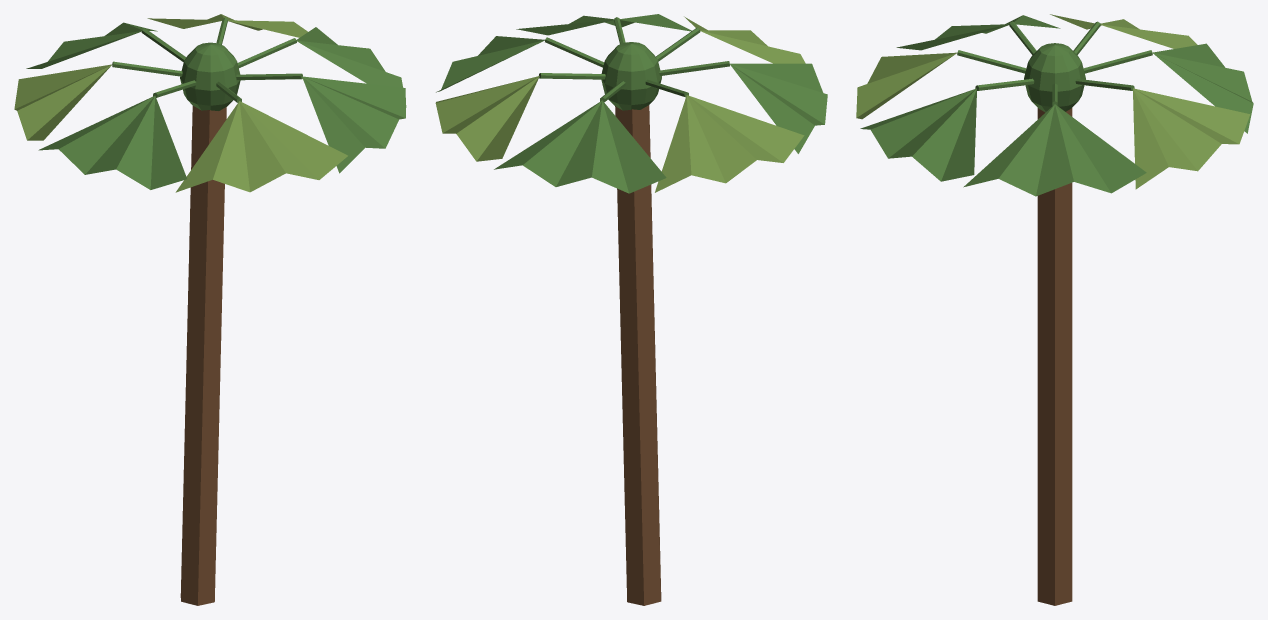
The model's file is palm-normal.glb.
The picture shows the model from 3 angles, left to right: view 1: azimuth 30°, elevation 25°; view 2: azimuth 150°, elevation 25°; view 3: azimuth 270°, elevation 25°; orthographic projection.
Parts seen in each view (by area): view 1: palm; view 2: palm; view 3: palm.
Boxes of the visible parts, bbox=[...] form: palm: bbox=[14, 14, 406, 605]; palm: bbox=[435, 14, 827, 605]; palm: bbox=[856, 14, 1253, 605].
Bounding box in the file's own units: 3.19 × 4.95 × 3.19.
